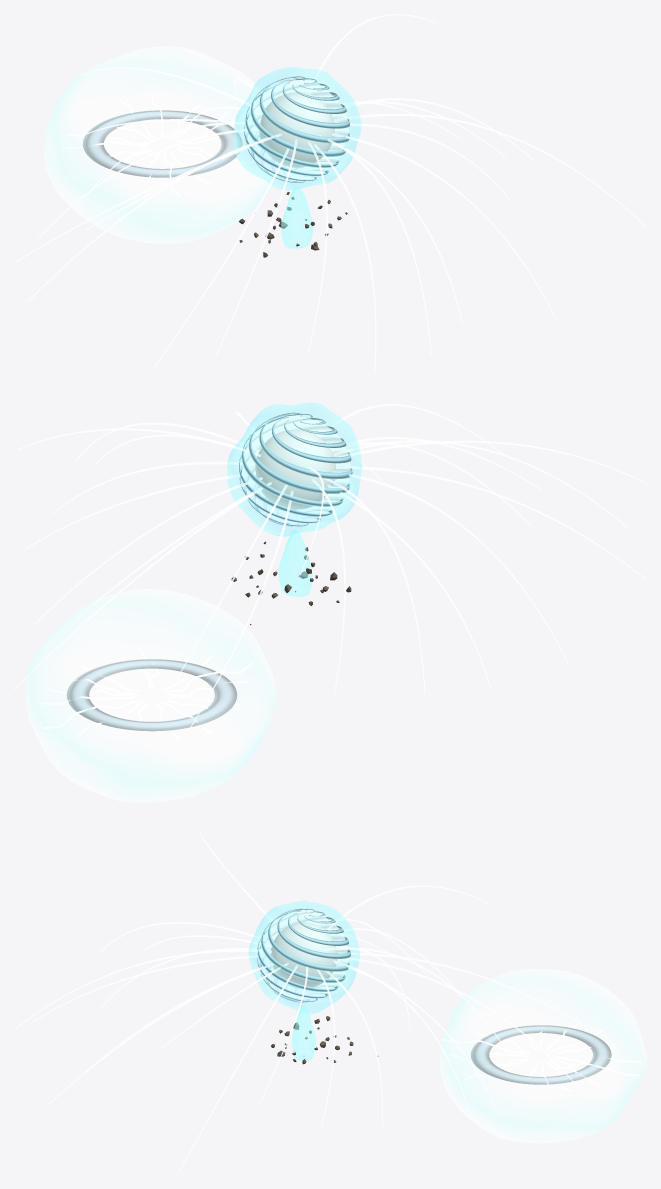
File: EnergyUltimate.fbx
3 views of the same model, one above another, from view 1: azimuth 30°, elevation 25°; view 2: azimuth 150°, elevation 25°; view 3: azimuth 270°, elevation 25° (orthographic). The views are drawn at different scales.
Visible parts, largest first — view 1: Dome, BombAura, Streams, BombGlow, Swirl.001, Shockwave, Bomb, Cracks.002, Aura; view 2: Dome, BombAura, Streams, BombGlow, Swirl.001, Shockwave, Bomb, Cracks.002, Aura; view 3: Dome, BombAura, Streams, BombGlow, Swirl.001, Shockwave, Bomb, Cracks.002, Aura.
Boxes of the visible parts, left/top/right/bottom form: Dome: left=43, top=46, right=275, bottom=243; BombAura: left=233, top=67, right=361, bottom=190; Streams: left=14, top=14, right=646, bottom=373; BombGlow: left=246, top=80, right=348, bottom=179; Swirl.001: left=244, top=76, right=349, bottom=182; Shockwave: left=83, top=110, right=241, bottom=177; Bomb: left=260, top=92, right=334, bottom=167; Cracks.002: left=62, top=93, right=260, bottom=196; Aura: left=281, top=186, right=313, bottom=248; Dome: left=26, top=588, right=276, bottom=802; BombAura: left=227, top=402, right=361, bottom=536; Streams: left=14, top=404, right=646, bottom=731; BombGlow: left=242, top=415, right=350, bottom=523; Swirl.001: left=239, top=412, right=352, bottom=526; Shockwave: left=66, top=659, right=237, bottom=731; Bomb: left=255, top=429, right=335, bottom=509; Cracks.002: left=40, top=647, right=253, bottom=740; Aura: left=278, top=530, right=312, bottom=596; Dome: left=439, top=969, right=646, bottom=1143; BombAura: left=248, top=900, right=359, bottom=1013; Streams: left=14, top=831, right=588, bottom=1174; BombGlow: left=260, top=910, right=347, bottom=999; Swirl.001: left=257, top=908, right=350, bottom=1002; Shockwave: left=471, top=1025, right=611, bottom=1084; Bomb: left=271, top=922, right=336, bottom=988; Cracks.002: left=441, top=1022, right=640, bottom=1091; Aura: left=292, top=1005, right=315, bottom=1060.
Size of the model in its own units: 75.25 by 34.06 by 85.4.
